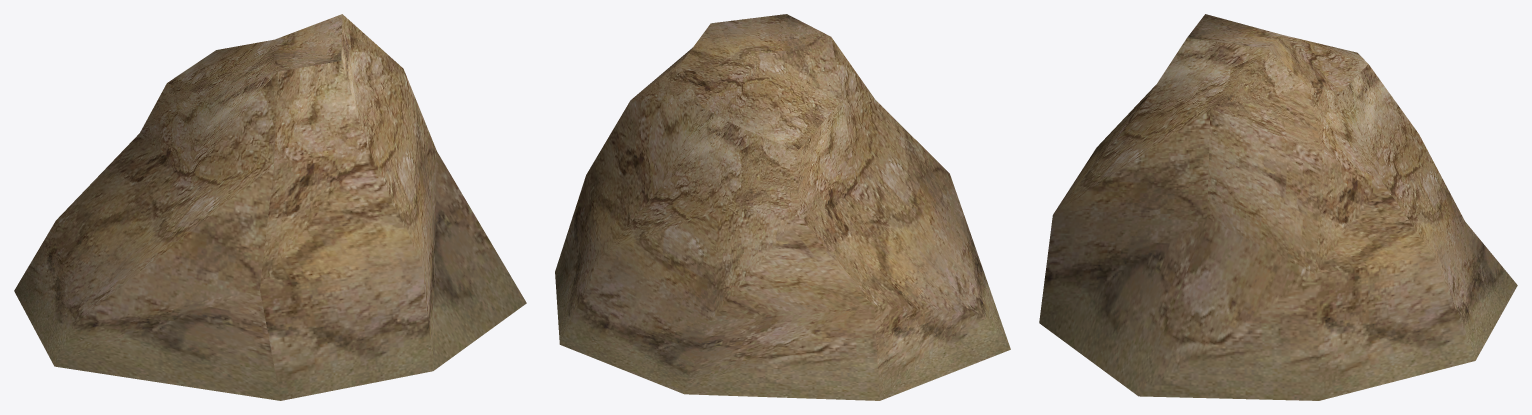
The model's file is w_cd_stone_01_01.glb.
3 renders of one model, left to right at view 1: azimuth 30°, elevation 25°; view 2: azimuth 150°, elevation 25°; view 3: azimuth 270°, elevation 25°, orthographic. The views are drawn at different scales.
Visible parts, largest first — view 1: w_cd_stone_01_01; view 2: w_cd_stone_01_01; view 3: w_cd_stone_01_01.
Boxes of the visible parts, x1,y1,x2,y2 form: w_cd_stone_01_01: [14, 14, 526, 400]; w_cd_stone_01_01: [555, 14, 1010, 400]; w_cd_stone_01_01: [1039, 14, 1517, 400].
Size of the model in its own units: 15.16 by 9.12 by 13.86.
Materials: 1 (1 with a texture image).
